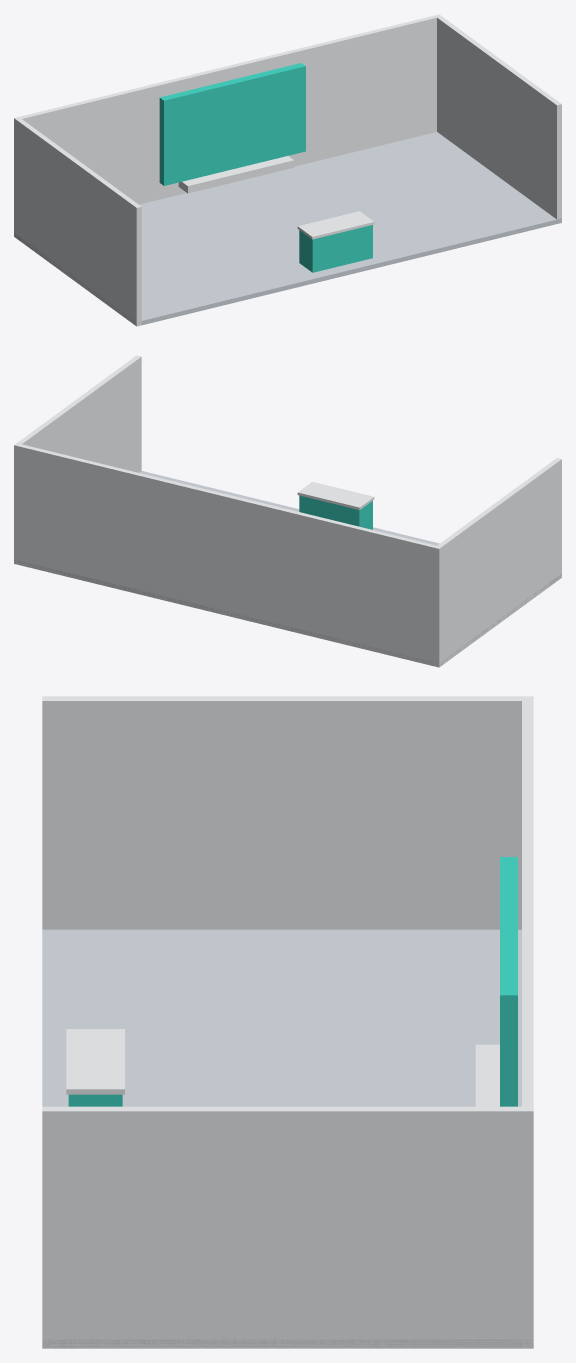
The picture shows the model from 3 angles, top to bottom: view 1: azimuth 30°, elevation 25°; view 2: azimuth 150°, elevation 25°; view 3: azimuth 270°, elevation 25°; orthographic projection. The views are drawn at different scales.
Visible parts, largest first — view 1: Exhibition Booth Concept; view 2: Exhibition Booth Concept; view 3: Exhibition Booth Concept.
Part boxes in pixels (x1=…): Exhibition Booth Concept: x1=14, y1=14, x2=561, y2=326; Exhibition Booth Concept: x1=14, y1=355, x2=561, y2=667; Exhibition Booth Concept: x1=42, y1=696, x2=533, y2=1348.
Size of the model in its own units: 12 by 3.2 by 6.
